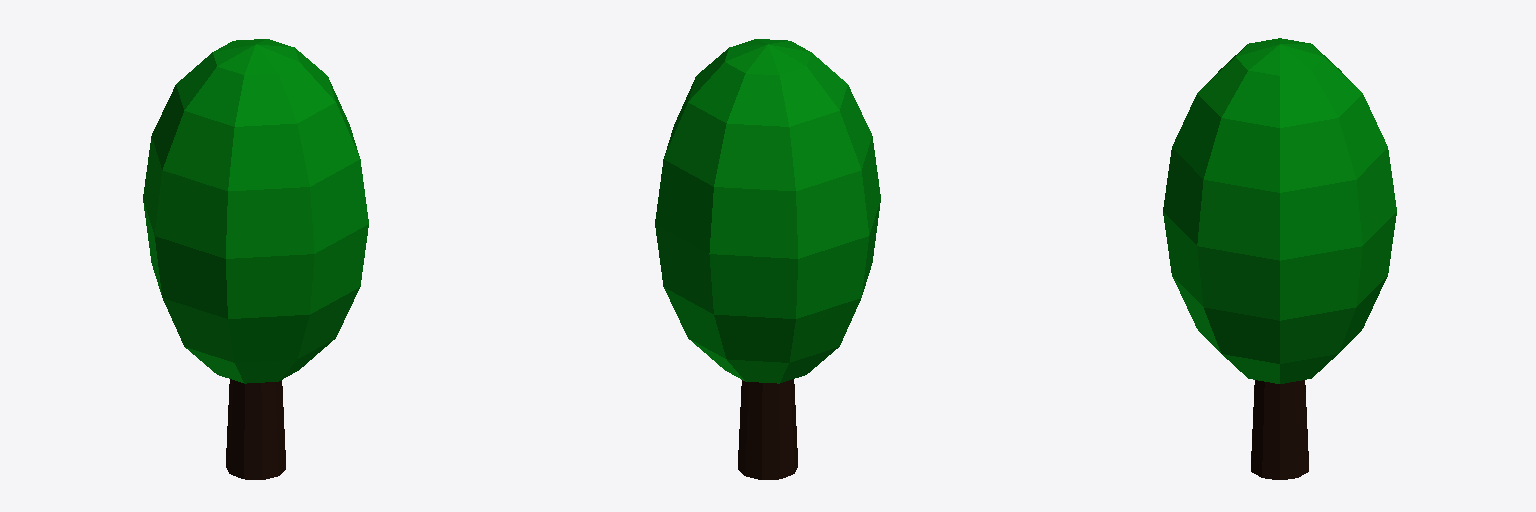
The model's file is Oak_Tree_02.obj.
The picture shows the model from 3 angles: view 1: azimuth 30°, elevation 25°; view 2: azimuth 150°, elevation 25°; view 3: azimuth 270°, elevation 25°; orthographic projection.
Parts seen in each view (by area): view 1: LP_LEAF_03, LP_TREE_TRUNK; view 2: LP_LEAF_03, LP_TREE_TRUNK; view 3: LP_LEAF_03, LP_TREE_TRUNK.
Boxes of the visible parts, x1,y1,x2,y2 form: LP_LEAF_03: [143, 39, 368, 383]; LP_TREE_TRUNK: [226, 379, 285, 479]; LP_LEAF_03: [655, 39, 880, 383]; LP_TREE_TRUNK: [738, 379, 797, 479]; LP_LEAF_03: [1163, 38, 1396, 383]; LP_TREE_TRUNK: [1251, 380, 1308, 479].
Bounding box in the file's own units: 10.11 × 20.16 × 10.11.